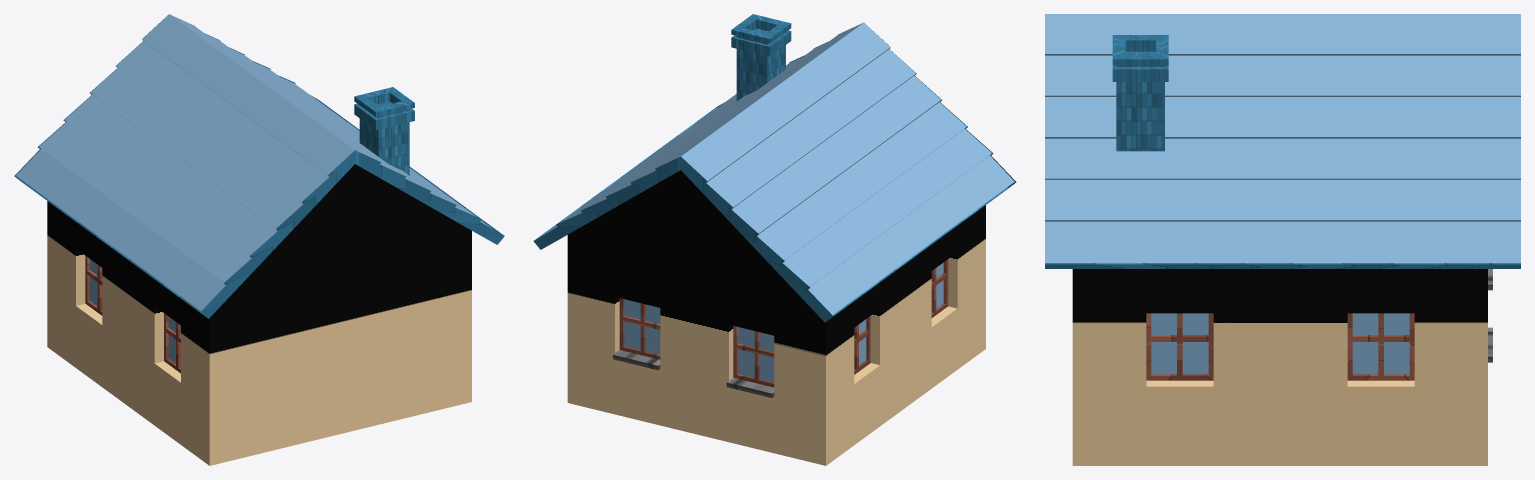
File: house_33.FBX
The picture shows the model from 3 angles, left to right: view 1: azimuth 30°, elevation 25°; view 2: azimuth 150°, elevation 25°; view 3: azimuth 270°, elevation 25°; orthographic projection. The views are drawn at different scales.
Parts seen in each view (by area): view 1: Box1440, house_2_roof012, house_2_underroof011, Box1441, h2_smoke_hall010, Object260, Object261, Object262; view 2: Box1440, house_2_roof012, house_2_underroof011, Object262, Object260, Box1441, h2_smoke_hall010, Object261, Object263; view 3: house_2_roof012, Box1440, Object262, Box1441, Object260, house_2_underroof011, h2_smoke_hall010.
Part boxes in pixels (<box>): Box1440: <box>47,164,471,465</box>; house_2_roof012: <box>16,14,492,310</box>; house_2_underroof011: <box>14,19,504,318</box>; Box1441: <box>359,92,409,175</box>; h2_smoke_hall010: <box>354,87,414,130</box>; Object260: <box>85,256,180,373</box>; Object261: <box>87,257,180,369</box>; Object262: <box>90,259,175,363</box>; Box1440: <box>567,170,985,465</box>; house_2_roof012: <box>546,22,1014,314</box>; house_2_underroof011: <box>533,28,1016,322</box>; Object262: <box>624,262,943,382</box>; Object260: <box>619,259,948,387</box>; Box1441: <box>736,19,785,101</box>; h2_smoke_hall010: <box>731,14,791,56</box>; Object261: <box>623,261,946,383</box>; Object263: <box>613,350,774,397</box>; house_2_roof012: <box>1045,14,1520,262</box>; Box1440: <box>1072,269,1487,465</box>; Object262: <box>1151,313,1409,374</box>; Box1441: <box>1116,40,1164,151</box>; Object260: <box>1146,313,1414,380</box>; house_2_underroof011: <box>1045,263,1520,268</box>; h2_smoke_hall010: <box>1112,35,1168,81</box>.
Bounding box in the file's own units: 29.52 × 27.56 × 31.21.
Materials: 9 (9 with a texture image).
